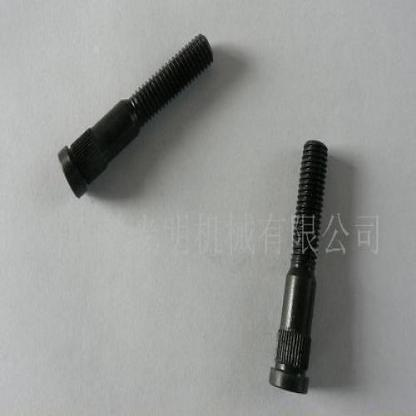FOD: (55, 34, 215, 205), (270, 136, 329, 394)
